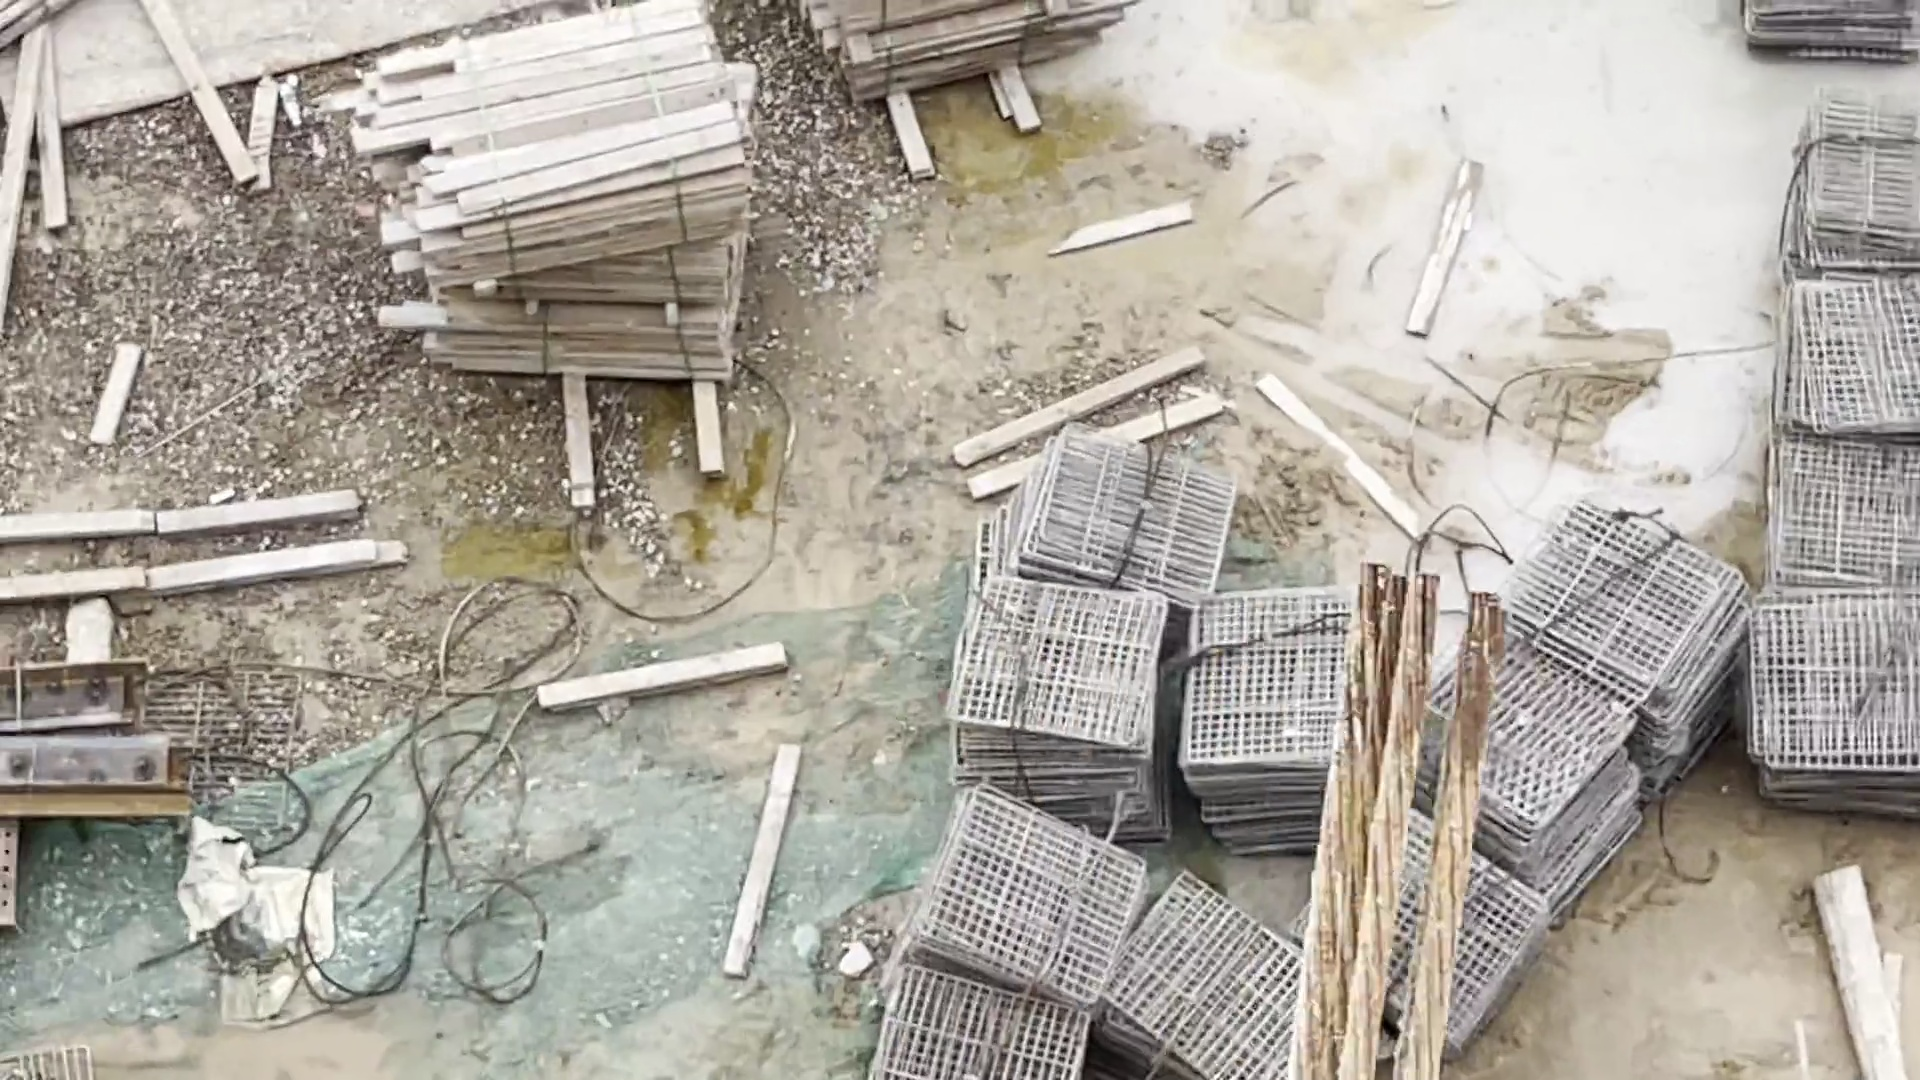wood: (357, 9, 742, 386), (822, 1, 1098, 115)
